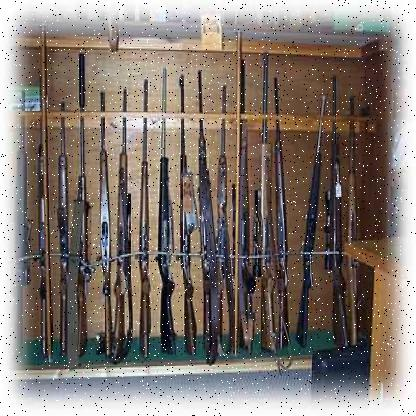rifle: (175, 70, 214, 361), (62, 43, 97, 361), (194, 67, 226, 377), (134, 72, 168, 359), (154, 61, 187, 356), (32, 62, 63, 369), (255, 47, 281, 373), (297, 89, 329, 349), (54, 95, 84, 364), (327, 67, 355, 348), (95, 82, 123, 362), (219, 72, 243, 356), (234, 51, 256, 358), (118, 84, 141, 364), (10, 83, 32, 372), (348, 87, 370, 347), (272, 70, 289, 343)
